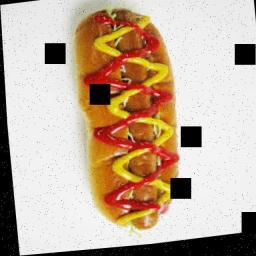hotdog: (68, 0, 192, 241)
